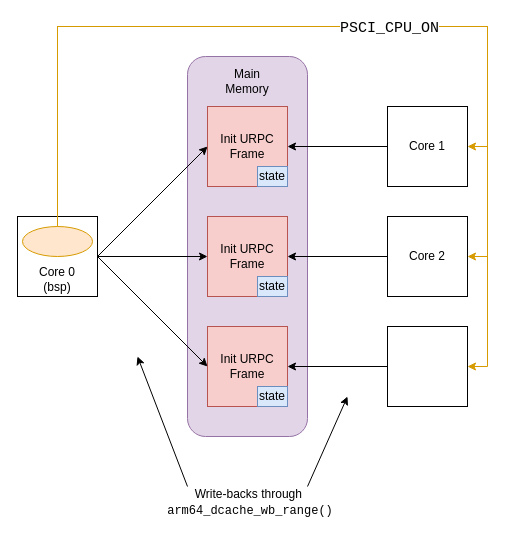
The diagram is 513 pixels wide and 535 high, and some of its shapes have lost their labels. The shapes that lost their labels are listed below. From the top down, each one's centre as x and y in pixels, then its label:
point 57,241: kernel
point 427,366: Core 3
